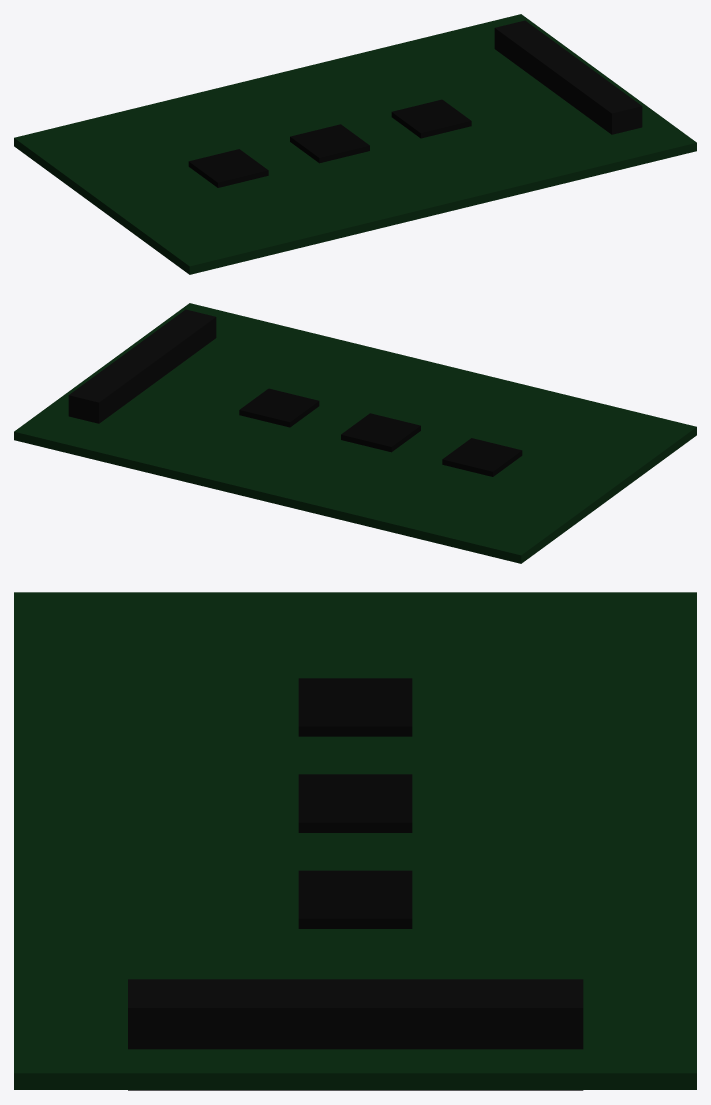
Rendered from pcb.glb.
3 views of the same model, one above another, from view 1: azimuth 30°, elevation 25°; view 2: azimuth 150°, elevation 25°; view 3: azimuth 270°, elevation 25° (orthographic). The views are drawn at different scales.
Parts seen in each view (by area): view 1: pcb; view 2: pcb; view 3: pcb.
Part boxes in pixels (x1=…): pcb: x1=14, y1=14, x2=696, y2=274; pcb: x1=14, y1=303, x2=696, y2=563; pcb: x1=14, y1=592, x2=696, y2=1090.
Bounding box in the file's own units: 0.1 × 0.008 × 0.06.
